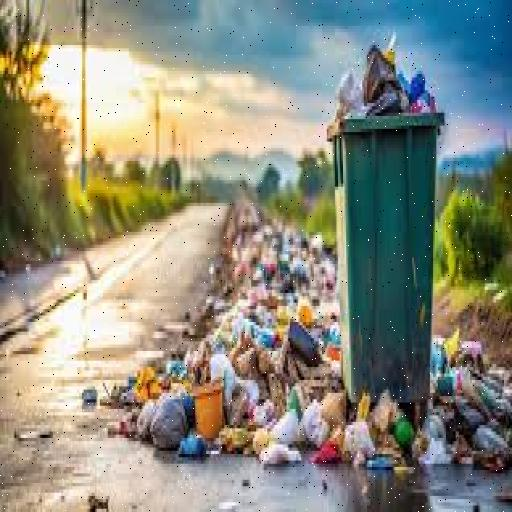poubelle_pleine: (320, 14, 458, 442)
